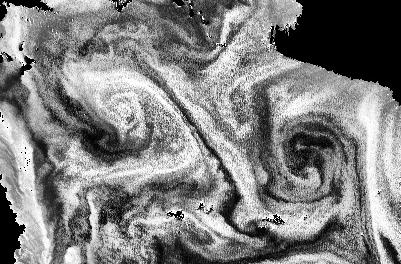CE: (270, 109, 353, 187), (93, 79, 151, 131)
